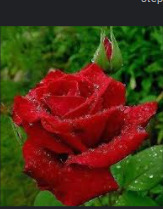RedRose: (10, 56, 157, 207)
